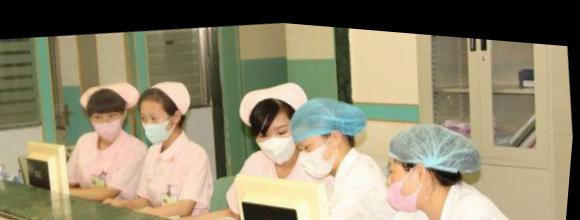OK: (249, 108, 304, 168), (295, 130, 346, 181), (86, 97, 135, 145), (138, 102, 183, 145)
WRONG: (385, 153, 440, 210)
